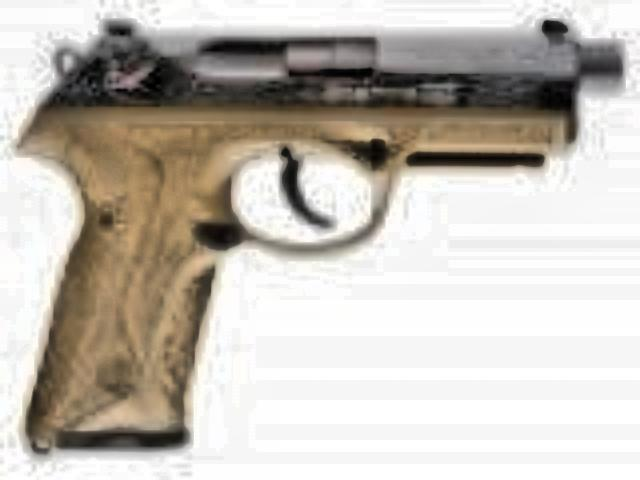pistol: (16, 8, 620, 444)
